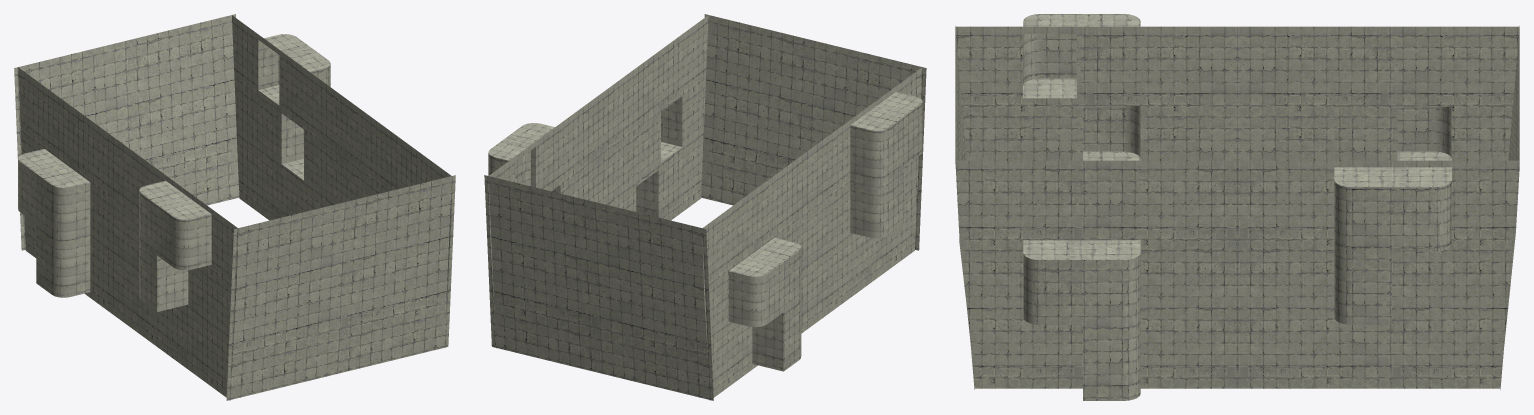
Rendered from SM_LDFest_27_OuterWalls.fbx.
3 renders of one model, left to right at view 1: azimuth 30°, elevation 25°; view 2: azimuth 150°, elevation 25°; view 3: azimuth 270°, elevation 25°, orthographic. The views are drawn at different scales.
Parts seen in each view (by area): view 1: SM_LDFest_27_OuterWalls; view 2: SM_LDFest_27_OuterWalls; view 3: SM_LDFest_27_OuterWalls.
Part boxes in pixels (x1,y1,x2,y2): SM_LDFest_27_OuterWalls: (14,14,455,400); SM_LDFest_27_OuterWalls: (484,14,926,400); SM_LDFest_27_OuterWalls: (955,14,1519,400).
Bounding box in the file's own units: 2330 × 1432 × 3209.
